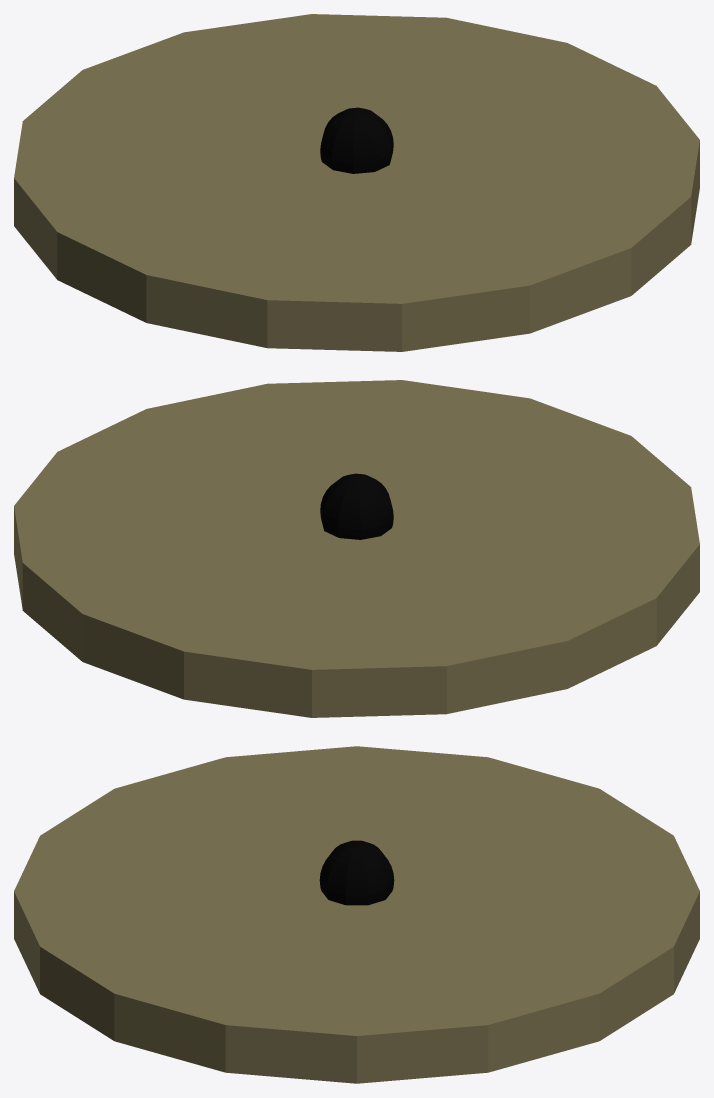
File: lid.fbx
3 renders of one model, top to bottom at view 1: azimuth 30°, elevation 25°; view 2: azimuth 150°, elevation 25°; view 3: azimuth 270°, elevation 25°, orthographic.
Visible parts, largest first — view 1: Cylinder.001, Sphere; view 2: Cylinder.001, Sphere; view 3: Cylinder.001, Sphere.
Part boxes in pixels (box(x1,y1,x2,y2)): Cylinder.001: box(14, 14, 699, 351); Sphere: box(320, 107, 393, 173); Cylinder.001: box(14, 380, 699, 717); Sphere: box(320, 473, 393, 539); Cylinder.001: box(14, 746, 699, 1083); Sphere: box(319, 840, 394, 905).
Bounding box in the file's own units: 184 × 28.23 × 184.
